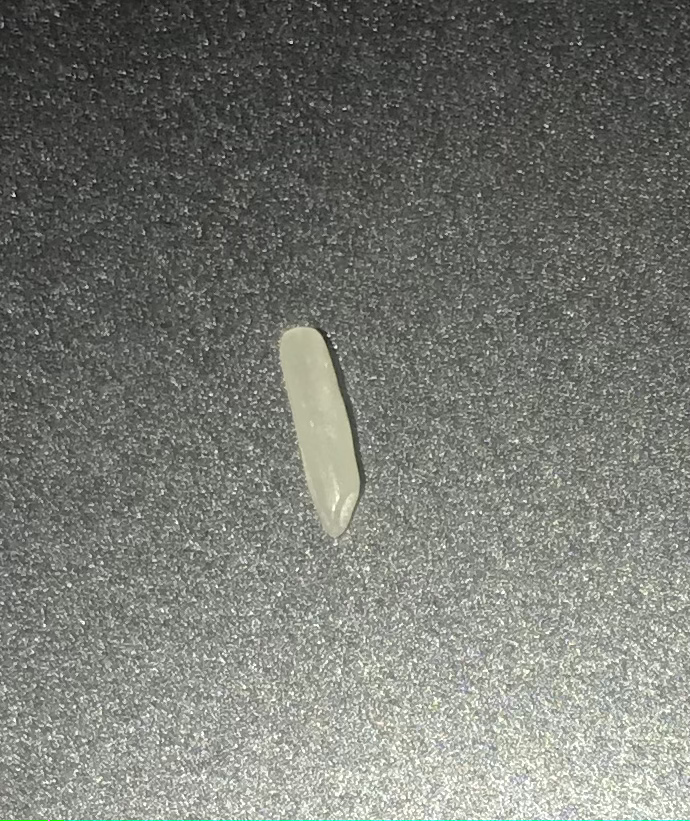Gao Long Lai: (265, 309, 390, 553)
